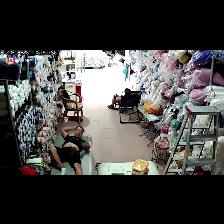person: (50, 127, 90, 174), (108, 95, 121, 109), (112, 50, 115, 58)
